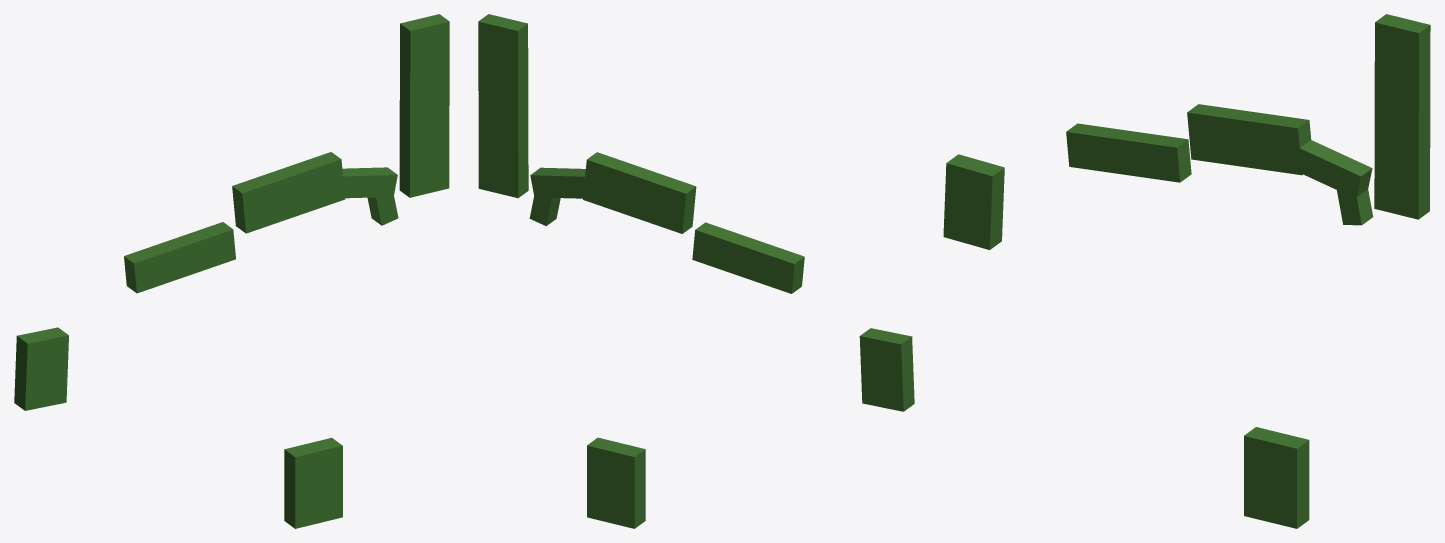
Rendered from slippery-objects.glb.
The picture shows the model from 3 angles, left to right: view 1: azimuth 30°, elevation 25°; view 2: azimuth 150°, elevation 25°; view 3: azimuth 330°, elevation 25°; orthographic projection. The views are drawn at different scales.
Parts seen in each view (by area): view 1: Cube.088, Cube.040, Cube.007, Cube.033, Cube.021, Cube.022, Cube.024; view 2: Cube.088, Cube.040, Cube.007, Cube.033, Cube.021, Cube.022, Cube.024; view 3: Cube.088, Cube.040, Cube.007, Cube.033, Cube.021, Cube.022, Cube.024.
Part boxes in pixels (left/top/right/bottom): Cube.088: left=399, top=14, right=449, bottom=197; Cube.040: left=232, top=152, right=345, bottom=233; Cube.007: left=284, top=437, right=342, bottom=528; Cube.033: left=124, top=222, right=235, bottom=293; Cube.021: left=14, top=327, right=68, bottom=410; Cube.022: left=334, top=167, right=397, bottom=198; Cube.024: left=367, top=188, right=398, bottom=225; Cube.088: left=478, top=14, right=528, bottom=198; Cube.040: left=583, top=152, right=696, bottom=233; Cube.007: left=587, top=437, right=645, bottom=528; Cube.033: left=692, top=222, right=804, bottom=293; Cube.021: left=859, top=328, right=914, bottom=411; Cube.022: left=530, top=167, right=595, bottom=198; Cube.024: left=529, top=190, right=560, bottom=226; Cube.088: left=1374, top=14, right=1430, bottom=219; Cube.040: left=1187, top=104, right=1311, bottom=175; Cube.007: left=1244, top=427, right=1309, bottom=528; Cube.033: left=1066, top=123, right=1191, bottom=182; Cube.021: left=943, top=154, right=1004, bottom=249; Cube.022: left=1288, top=140, right=1372, bottom=198; Cube.024: left=1337, top=187, right=1373, bottom=225.
Size of the model in its own units: 105 by 111 by 5.01.
